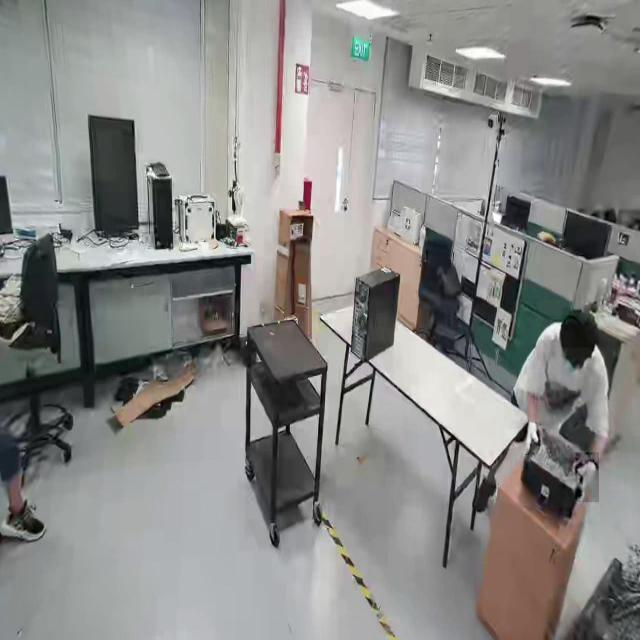hand_glove: (576, 453, 600, 503), (522, 418, 542, 459)
head_nohelmet: (563, 307, 599, 348)
person: (513, 301, 615, 508)
